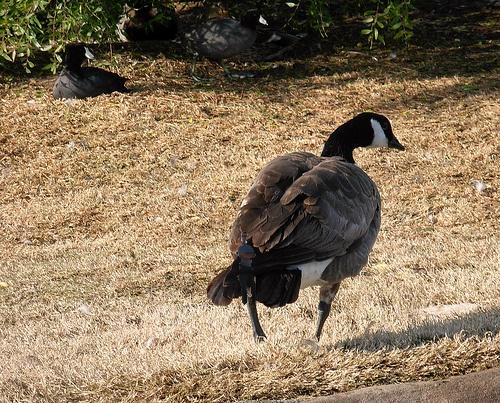tampered: (238, 232, 256, 306)
